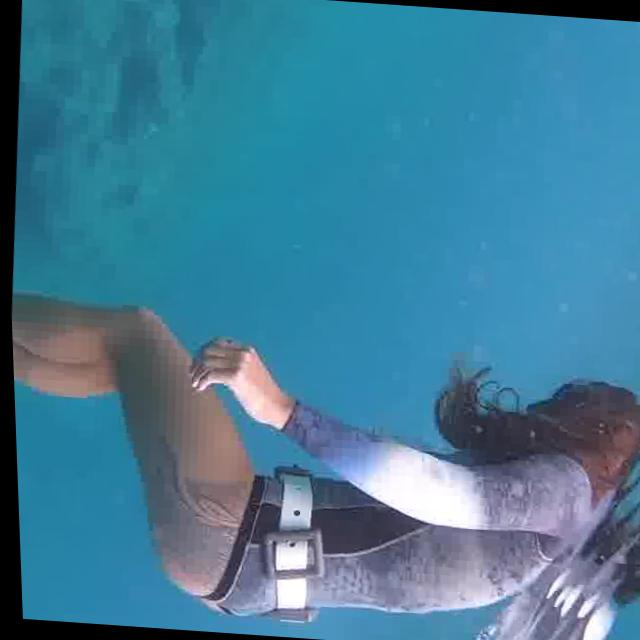human: (7, 229, 640, 640)
